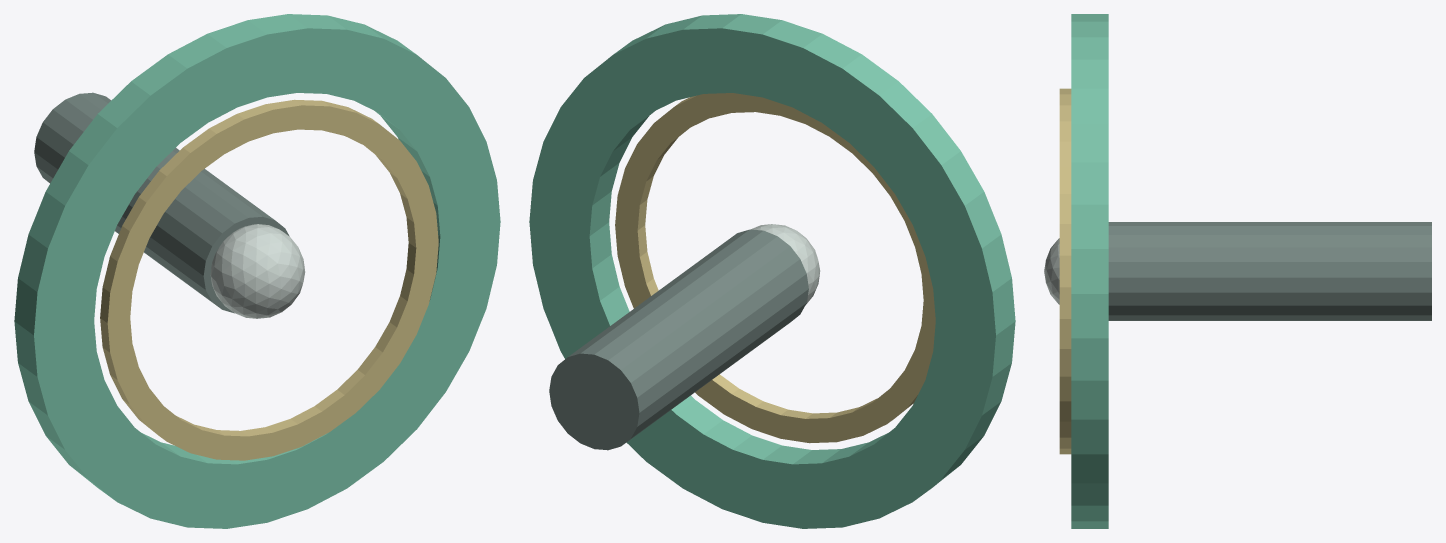
Rendered from panorama-portal-high.glb.
3 renders of one model, left to right at view 1: azimuth 30°, elevation 25°; view 2: azimuth 150°, elevation 25°; view 3: azimuth 270°, elevation 25°, orthographic. The views are drawn at different scales.
Visible parts, largest first — view 1: portal-ring, inner-ring, stand, orb; view 2: portal-ring, stand, inner-ring, orb; view 3: stand, portal-ring, inner-ring, orb.
Boxes of the visible parts, <box> form: portal-ring: <box>14,14,500,528</box>; inner-ring: <box>100,99,438,460</box>; stand: <box>34,92,289,313</box>; orb: <box>210,224,305,318</box>; portal-ring: <box>529,14,1015,528</box>; stand: <box>549,229,808,450</box>; inner-ring: <box>615,93,935,443</box>; orb: <box>750,224,820,305</box>; stand: <box>1108,222,1431,320</box>; portal-ring: <box>1071,14,1108,528</box>; inner-ring: <box>1059,88,1071,454</box>; orb: <box>1044,238,1059,304</box>.
Size of the model in its own units: 1.24 by 1.24 by 0.93.
